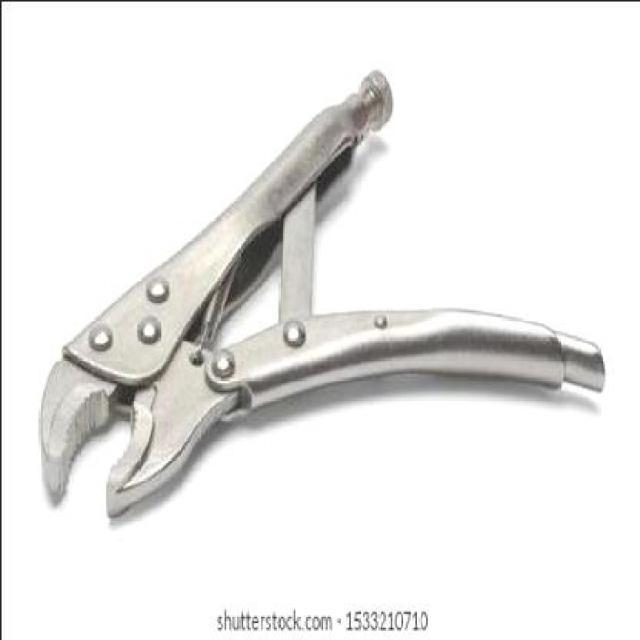pliers: (38, 59, 606, 524)
